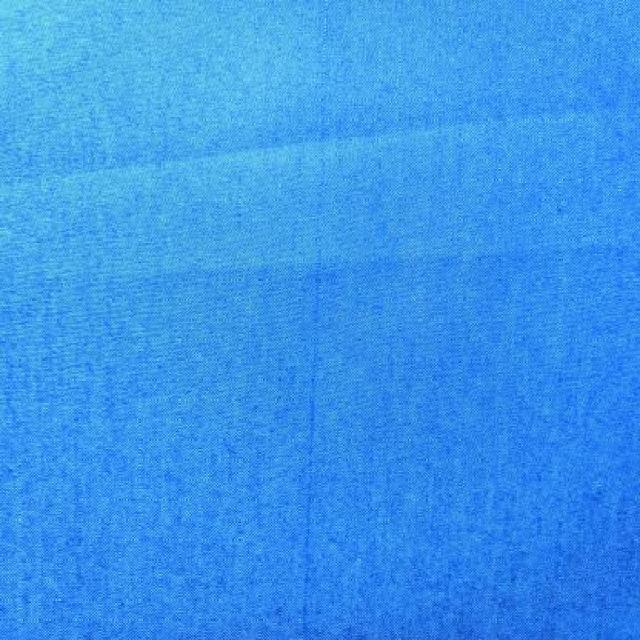pulled_or_thick_thread: (298, 43, 344, 637)
